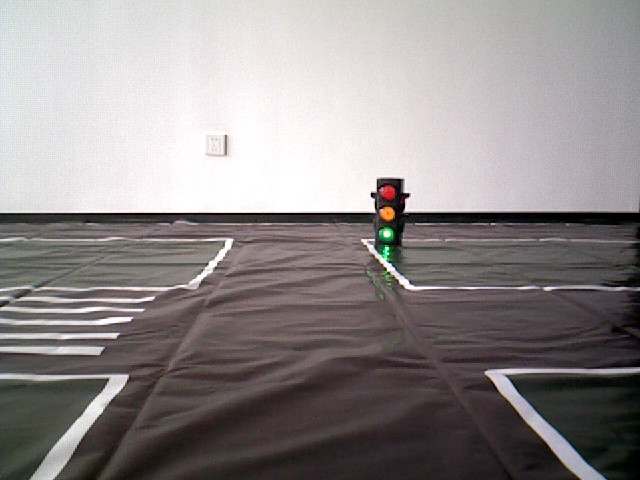green: (377, 178, 397, 244)
